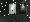person: (20, 4, 27, 15), (10, 5, 17, 15)
